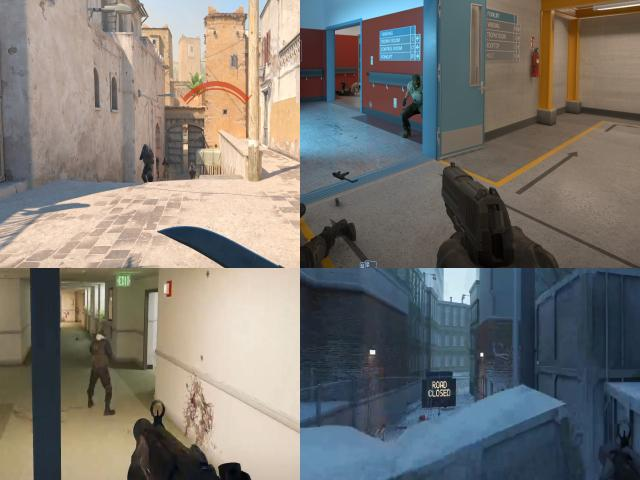CT: (87, 328, 112, 386), (142, 144, 153, 181), (163, 157, 169, 179), (190, 163, 196, 179), (156, 156, 159, 176)
CT-Head: (94, 327, 107, 349), (144, 144, 148, 152), (191, 162, 194, 168), (164, 157, 166, 161)
Dead: (336, 81, 361, 98)
T: (406, 73, 422, 139)
T-Head: (412, 73, 422, 91)
